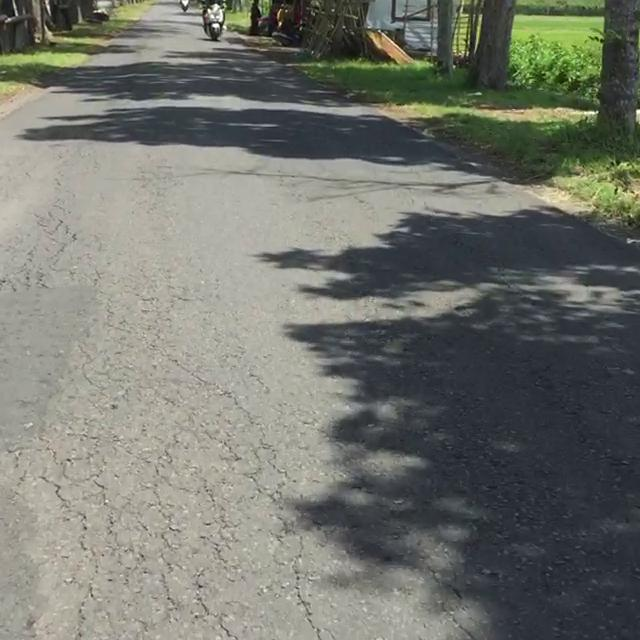retak_kulit_buaya: (32, 301, 258, 640), (4, 203, 79, 299)
